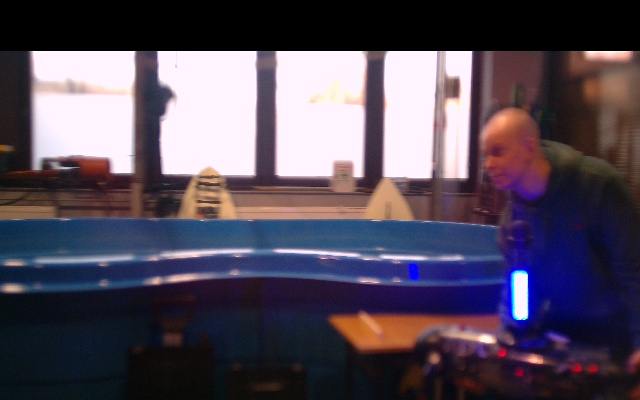blue: (511, 269, 529, 321)
